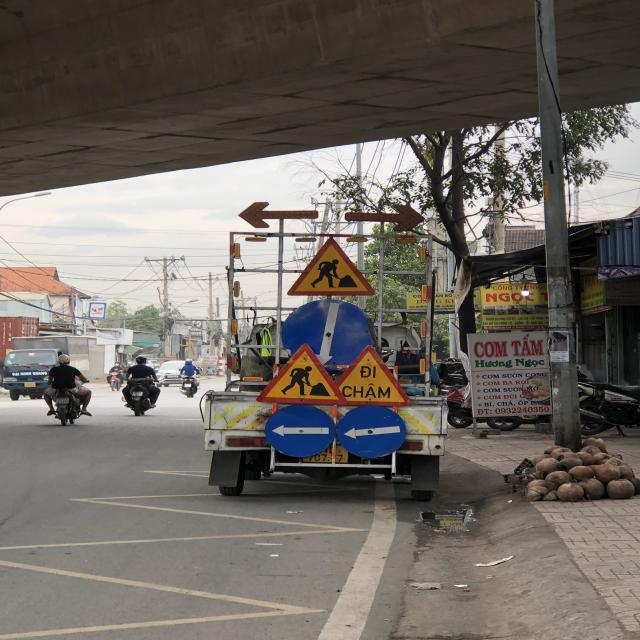Bien bao cong truong: (259, 342, 349, 408), (284, 235, 371, 302)
